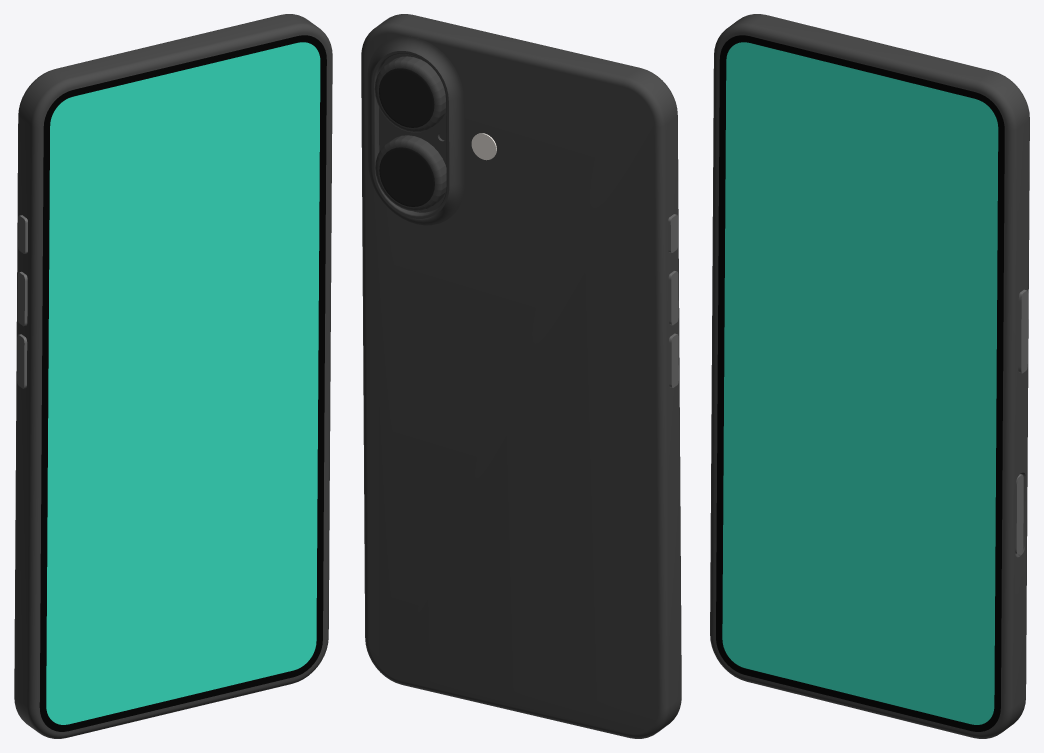
The model's file is Smart Phone.fbx.
3 renders of one model, left to right at view 1: azimuth 30°, elevation 25°; view 2: azimuth 150°, elevation 25°; view 3: azimuth 330°, elevation 25°, orthographic.
Visible parts, largest first — view 1: Cube, button 4, button 5; view 2: Cube, camera holder, camera part, camera, button 4, flash; view 3: Cube, button 1, button 2?.
Boxes of the visible parts, x1,y1,x2,y2 form: Cube: [14, 14, 332, 738]; button 4: [17, 271, 27, 326]; button 5: [17, 334, 27, 388]; Cube: [361, 14, 681, 738]; camera holder: [367, 36, 464, 225]; camera part: [379, 68, 434, 206]; camera: [374, 56, 446, 211]; button 4: [668, 271, 678, 325]; flash: [471, 133, 496, 160]; Cube: [710, 14, 1029, 738]; button 1: [1018, 289, 1028, 373]; button 2?: [1015, 474, 1023, 554].
Size of the model in its own units: 402 by 824 by 68.08.
